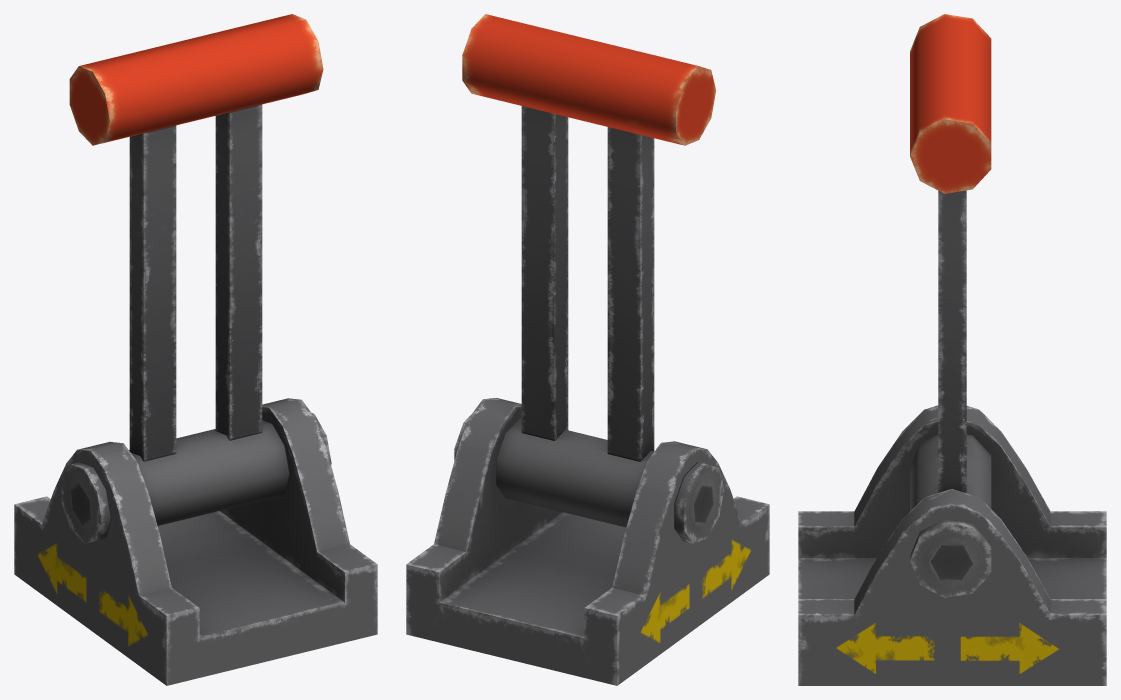
File: Lever_01.FBX
3 views of the same model, side by side, from view 1: azimuth 30°, elevation 25°; view 2: azimuth 150°, elevation 25°; view 3: azimuth 270°, elevation 25° (orthographic).
Parts seen in each view (by area): view 1: Lever_01_part, Lever_01; view 2: Lever_01_part, Lever_01; view 3: Lever_01, Lever_01_part.
Boxes of the visible parts, x1=… form: Lever_01_part: x1=61, y1=14, x2=331, y2=543; Lever_01: x1=14, y1=398, x2=377, y2=685; Lever_01_part: x1=454, y1=14, x2=724, y2=543; Lever_01: x1=406, y1=398, x2=769, y2=685; Lever_01: x1=798, y1=405, x2=1106, y2=685; Lever_01_part: x1=910, y1=14, x2=991, y2=597.
Bounding box in the file's own units: 5.63 × 13.14 × 6.47.
1 material, 1 textured.
